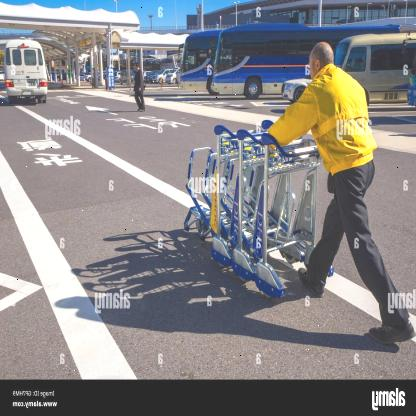airport-trolley: (219, 135, 337, 301), (204, 125, 306, 288), (182, 120, 288, 269)
